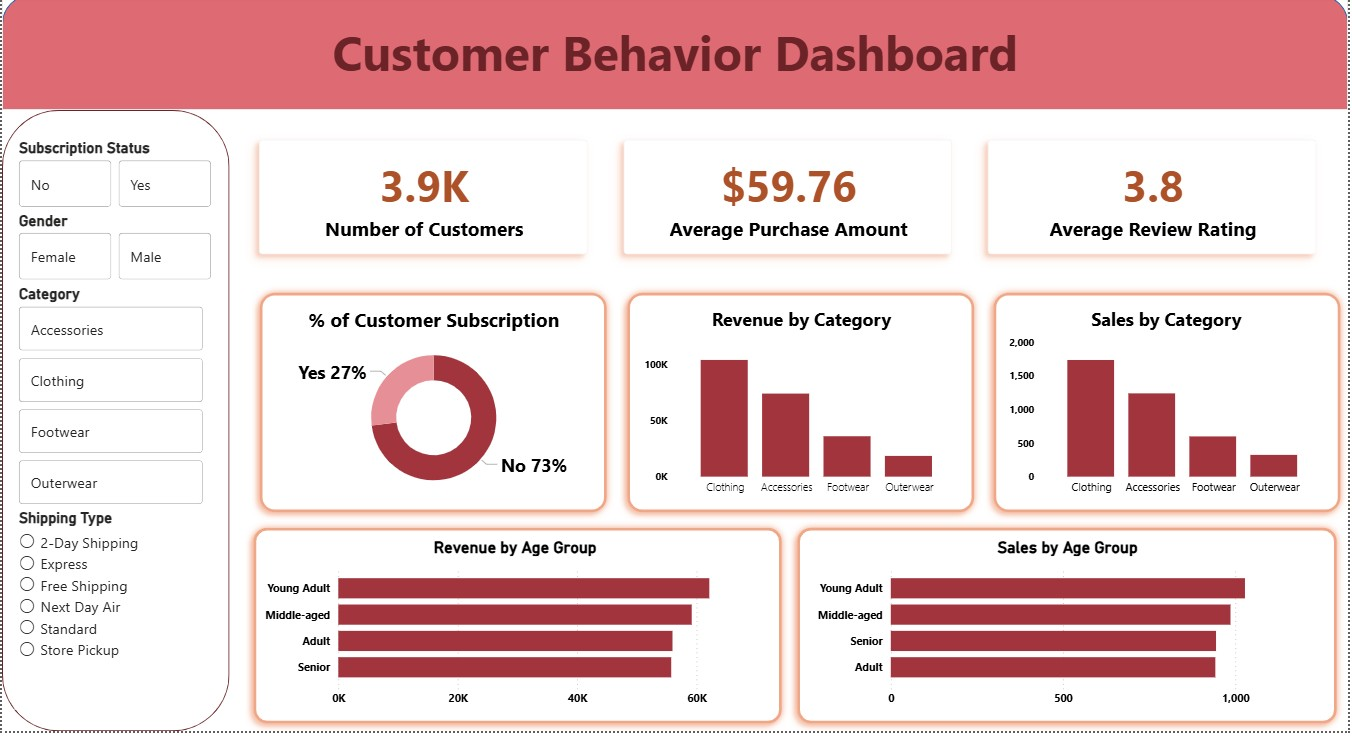

The dashboard page shown, as its layout file describes it:
{"tool":"powerbi","page":{"name":"Page 1","canvas":[1500,820],"ordinal":0},"visuals":[{"type":"shape","box":[271.6,584.9,605.8,235.4],"z":0},{"type":"shape","box":[0,0,1499.9,128.1],"z":1000},{"type":"cardVisual","fields":{"Data":["public customer.Number of Customers","public customer.Average Purchase Amount","public customer.Average Review Rating"]},"box":[253.5,128.1,1246.4,195],"z":2000},{"type":"textbox","box":[80.8,22.3,1338.4,115.6],"z":3000},{"type":"shape","box":[278.5,323.1,403.9,261.8],"z":4000},{"type":"donutChart","title":"% of Customer Subscription","fields":{"Y":["Count(public customer.customer_id)"],"Category":["public customer.subscription_status"]},"box":[299.4,346.8,363.5,220],"z":5000},{"type":"shape","box":[687.3,323.1,403.9,261.8],"z":6000},{"type":"shape","box":[1096,323.1,403.9,261.8],"z":7000},{"type":"clusteredColumnChart","title":"Revenue by Category","fields":{"Category":["public customer.category"],"Y":["Sum(public customer.purchase_amount)"]},"box":[710.3,346.8,360.7,220],"z":8000},{"type":"clusteredColumnChart","title":"Sales by Category","fields":{"Category":["public customer.category"],"Y":["CountNonNull(public customer.customer_id)"]},"box":[1116.9,346.8,360.7,220],"z":9000},{"type":"shape","box":[0,128.1,253.5,692.2],"z":10000},{"type":"advancedSlicerVisual","title":"Subscription Status","fields":{"Values":["public customer.subscription_status"]},"box":[13.9,157.4,225.6,79.4],"z":11000},{"type":"advancedSlicerVisual","title":"Gender","fields":{"Values":["public customer.gender"]},"box":[13.9,240.9,225.6,82.2],"z":12000},{"type":"advancedSlicerVisual","title":"Category","fields":{"Values":["public customer.category"]},"box":[13.9,323.1,215.9,249.3],"z":13000},{"type":"listSlicer","title":"Shipping Type","fields":{"Values":["public customer.shipping_type"]},"box":[13.9,572.4,156,224.2],"z":14000},{"type":"clusteredBarChart","title":"Revenue by Age Group","fields":{"Category":["public customer.age_group"],"Y":["Sum(public customer.purchase_amount)"]},"box":[286.9,604.4,569.6,197.8],"z":15000},{"type":"advancedSlicerVisual","title":"Subscription Status","fields":{"Values":["public customer.subscription_status"]},"box":[13.9,160.2,225.6,82.2],"z":16000},{"type":"shape","box":[877.4,584.9,618.3,235.4],"z":18000},{"type":"clusteredBarChart","title":"Sales by Age Group","fields":{"Category":["public customer.age_group"],"Y":["CountNonNull(public customer.customer_id)"]},"box":[902.5,604.4,569.6,197.8],"z":18001}]}

Visuals, with their boxes in screenshot pixels (x1, y1, x2, y2), scaled from the page's 1500x820 canvas onto the 1352x736 screenshot:
shape: box=[245, 525, 791, 735]
shape: box=[0, 0, 1351, 115]
cardVisual - public customer.Number of Customers x public customer.Average Purchase Amount: box=[228, 115, 1351, 290]
textbox: box=[73, 20, 1279, 124]
shape: box=[251, 290, 615, 525]
"% of Customer Subscription" donutChart: box=[270, 311, 597, 509]
shape: box=[619, 290, 984, 525]
shape: box=[988, 290, 1351, 525]
"Revenue by Category" clusteredColumnChart: box=[640, 311, 965, 509]
"Sales by Category" clusteredColumnChart: box=[1007, 311, 1332, 509]
shape: box=[0, 115, 228, 735]
"Subscription Status" advancedSlicerVisual: box=[13, 141, 216, 213]
"Gender" advancedSlicerVisual: box=[13, 216, 216, 290]
"Category" advancedSlicerVisual: box=[13, 290, 207, 514]
"Shipping Type" listSlicer: box=[13, 514, 153, 715]
"Revenue by Age Group" clusteredBarChart: box=[259, 542, 772, 720]
"Subscription Status" advancedSlicerVisual: box=[13, 144, 216, 218]
shape: box=[791, 525, 1348, 735]
"Sales by Age Group" clusteredBarChart: box=[813, 542, 1327, 720]
